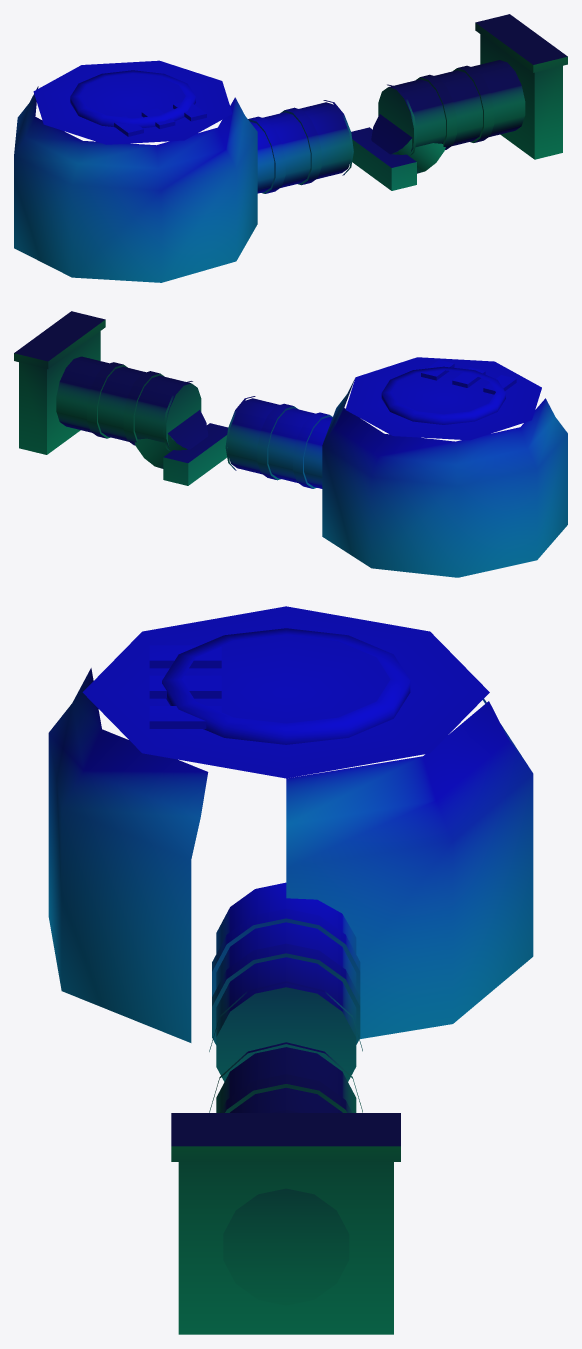
File: endpipe_damaged.glb
3 renders of one model, top to bottom at view 1: azimuth 30°, elevation 25°; view 2: azimuth 150°, elevation 25°; view 3: azimuth 270°, elevation 25°, orthographic. The views are drawn at different scales.
Parts seen in each view (by area): view 1: lod0; view 2: lod0; view 3: lod0.
Boxes of the visible parts, <box> form: lod0: <box>14,14,567,282</box>; lod0: <box>14,311,567,577</box>; lod0: <box>48,606,533,1334</box>.
Size of what is drawn, in the model's own units: 16.29 by 4.32 by 6.75.
